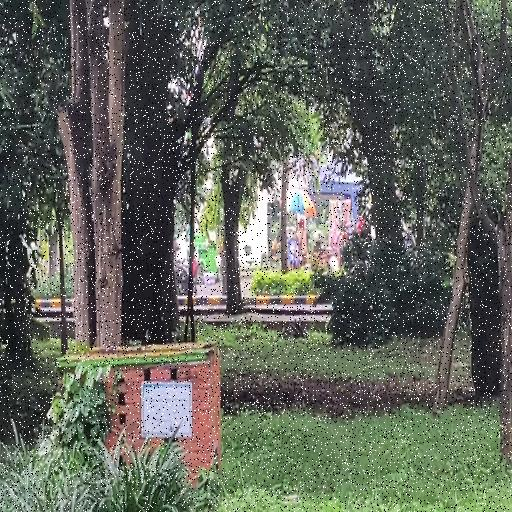Motor: (174, 260, 188, 295)
